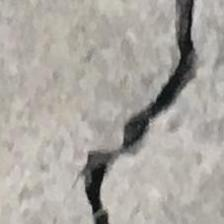Crack: (75, 0, 217, 224)
